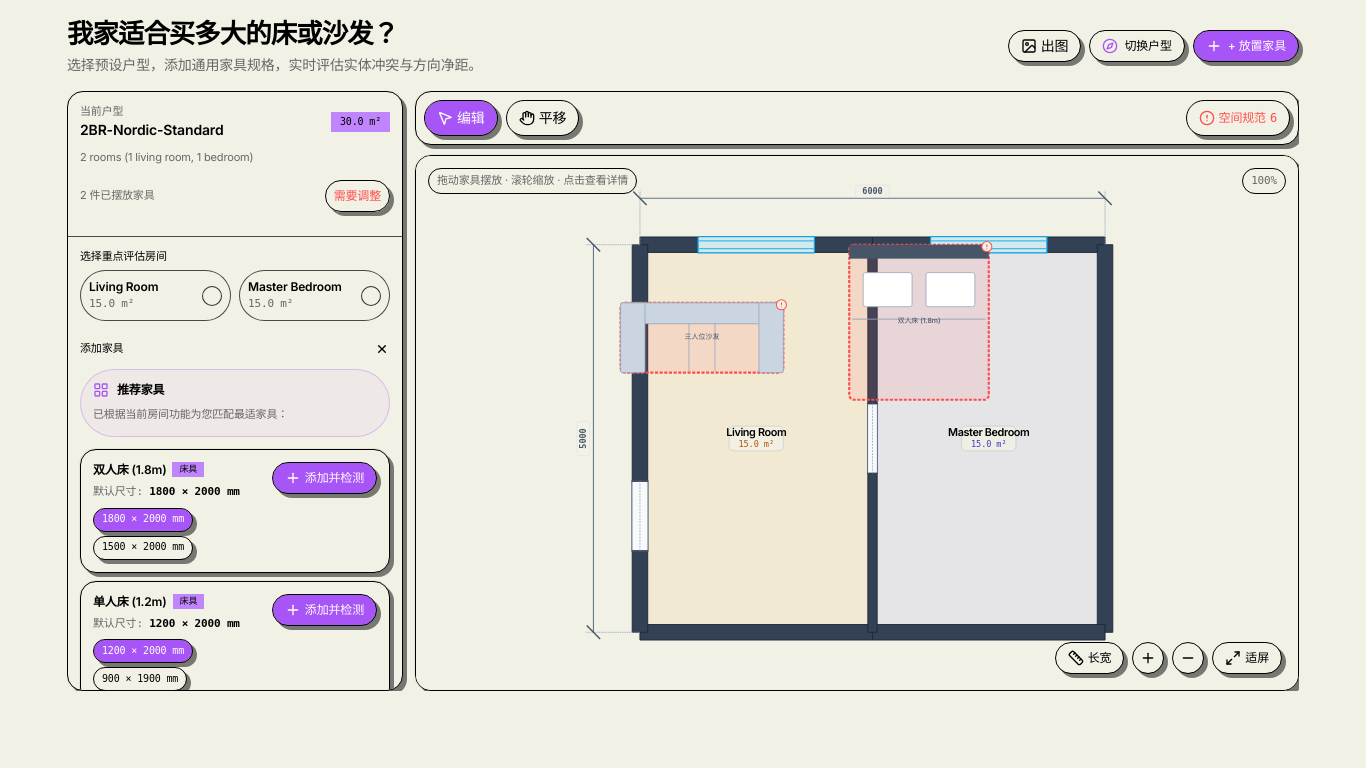
Scenario: AC-27: Prune recognition, calibration, and source-import capabilities › verifies preserved floor-plan viewing, furniture addition, movement, rotation, and basic collision feedback
Expected: the element with test id "floor-plan-viewer-surface" is shown, [416,156,1298,690]
Click the option with test id "room-item-r1" at (156, 296), box [80,270,231,321]
(page scrolled)
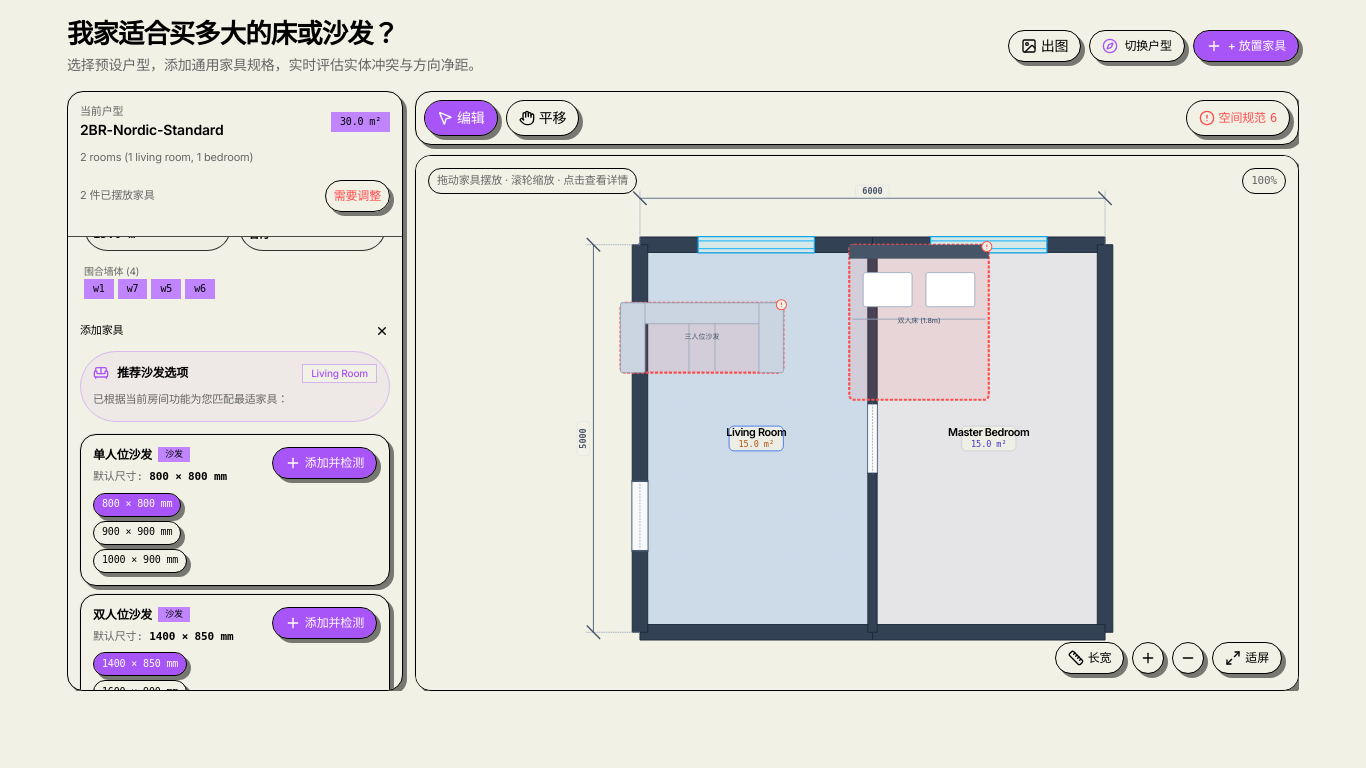
Click the button with test id "^add-context-furniture-" at (324, 463), box [272,447,377,479]
(page scrolled)
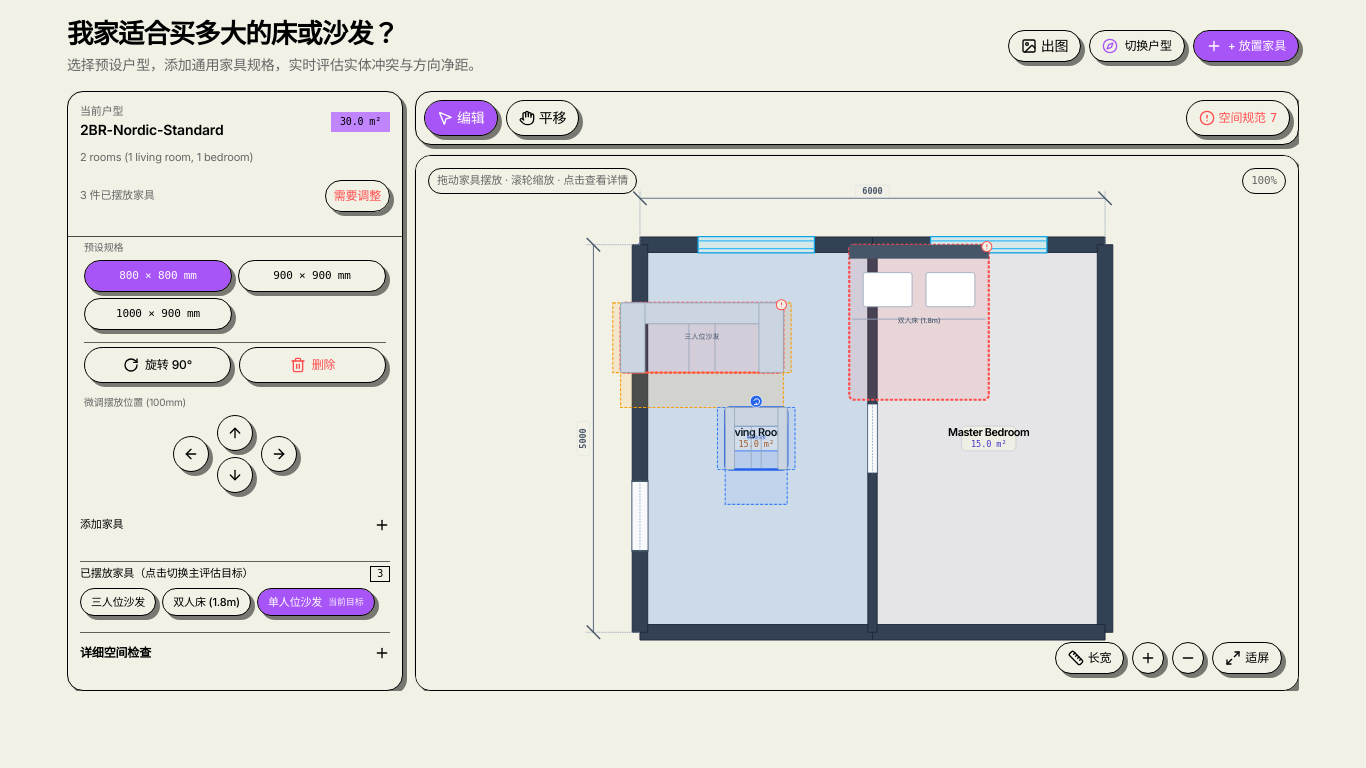
Now the element with test id "decision-target-furniture" is shown, box [80,632,390,678]
